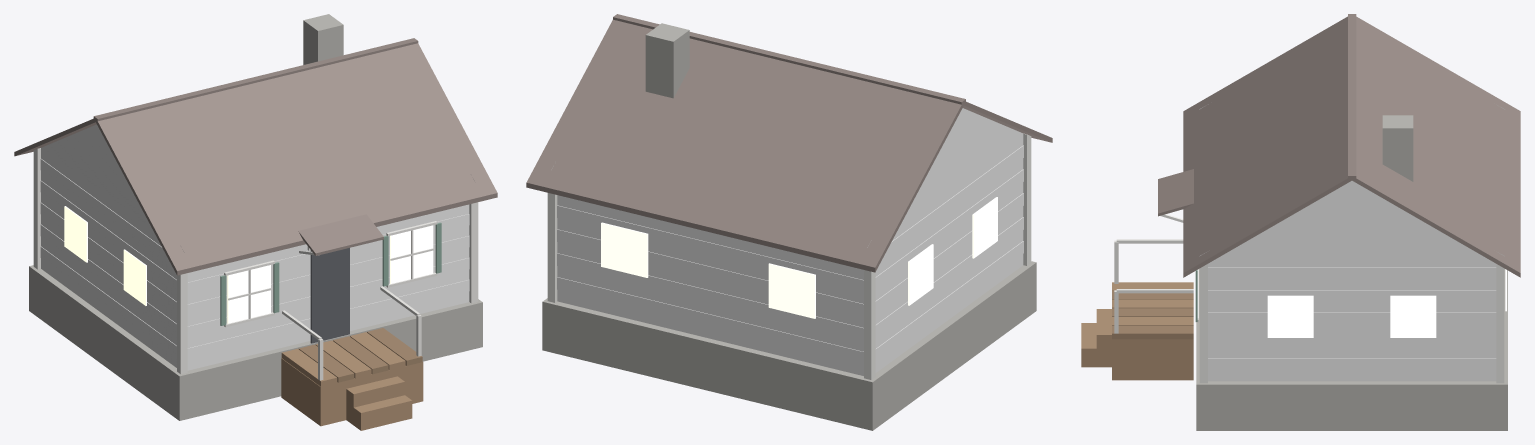
File: ring_house.glb
3 views of the same model, side by side, from view 1: azimuth 30°, elevation 25°; view 2: azimuth 150°, elevation 25°; view 3: azimuth 270°, elevation 25° (orthographic). The views are drawn at different scales.
Visible parts, largest first — view 1: rh_house_trim_mesh, rh_house_wall_mesh; view 2: rh_house_trim_mesh, rh_house_wall_mesh; view 3: rh_house_trim_mesh, rh_house_wall_mesh.
Part boxes in pixels (x1,y1,x2,y2): rh_house_trim_mesh: (14, 14, 497, 430); rh_house_wall_mesh: (40, 124, 474, 370); rh_house_trim_mesh: (526, 14, 1052, 430); rh_house_wall_mesh: (551, 108, 1023, 375); rh_house_trim_mesh: (1081, 14, 1520, 430); rh_house_wall_mesh: (1199, 104, 1504, 381).
Bounding box in the file's own units: 7.5 × 6 × 8.6.
